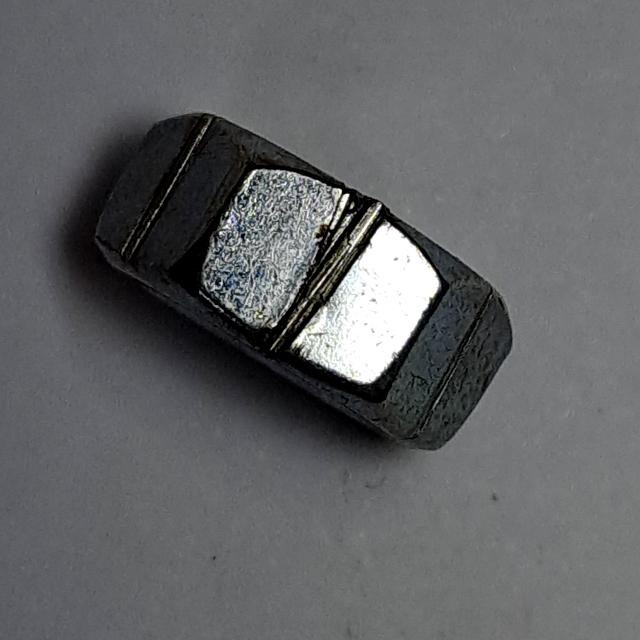Side_Scratches: (83, 100, 528, 466)
